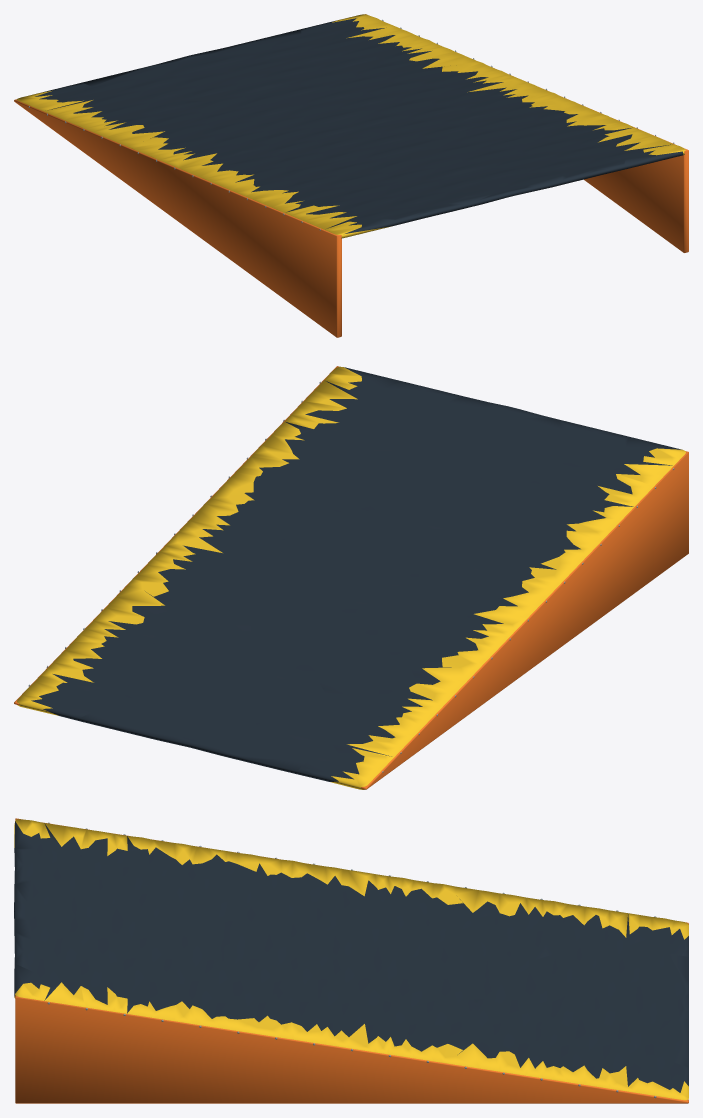
Rendered from Jump_ramp_LOD2.glb.
The picture shows the model from 3 angles, top to bottom: view 1: azimuth 30°, elevation 25°; view 2: azimuth 150°, elevation 25°; view 3: azimuth 270°, elevation 25°; orthographic projection. The views are drawn at different scales.
Parts seen in each view (by area): view 1: Jump_ramp_GameMesh; view 2: Jump_ramp_GameMesh; view 3: Jump_ramp_GameMesh.
Part boxes in pixels (<box>): Jump_ramp_GameMesh: <box>14,14,688,337</box>; Jump_ramp_GameMesh: <box>14,366,688,789</box>; Jump_ramp_GameMesh: <box>14,818,688,1103</box>.
Size of the model in its own units: 5.06 by 1.43 by 8.01.
